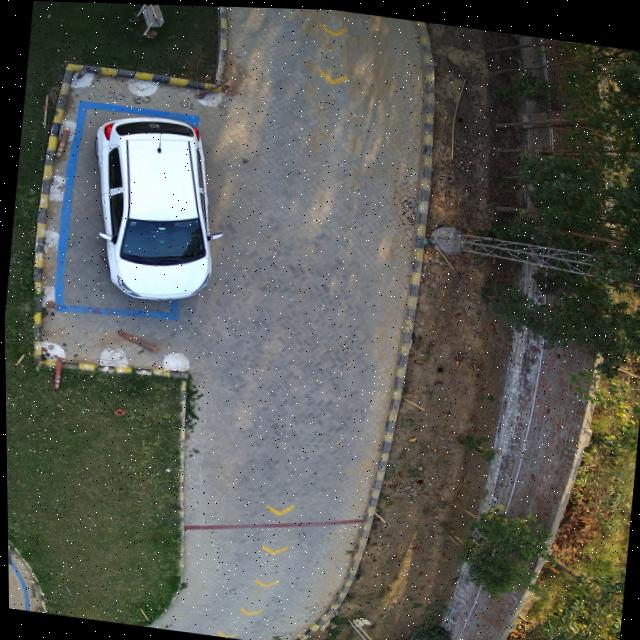car: (94, 115, 220, 299)
